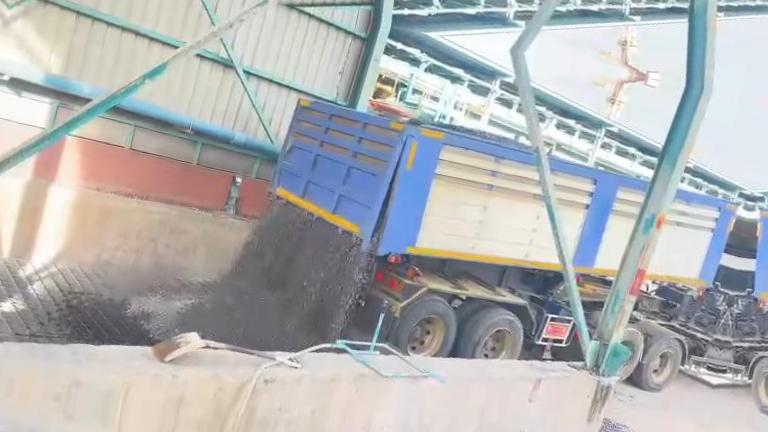gravel: (151, 201, 370, 348), (579, 419, 693, 432)
